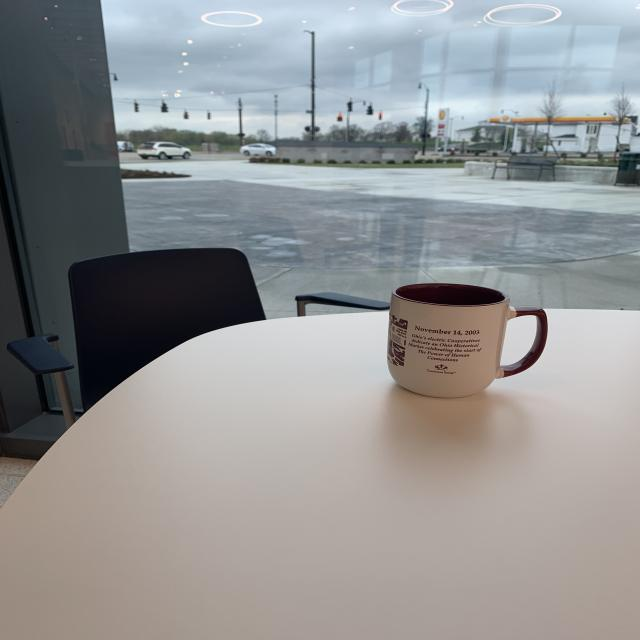Cup: (383, 275, 555, 408)
